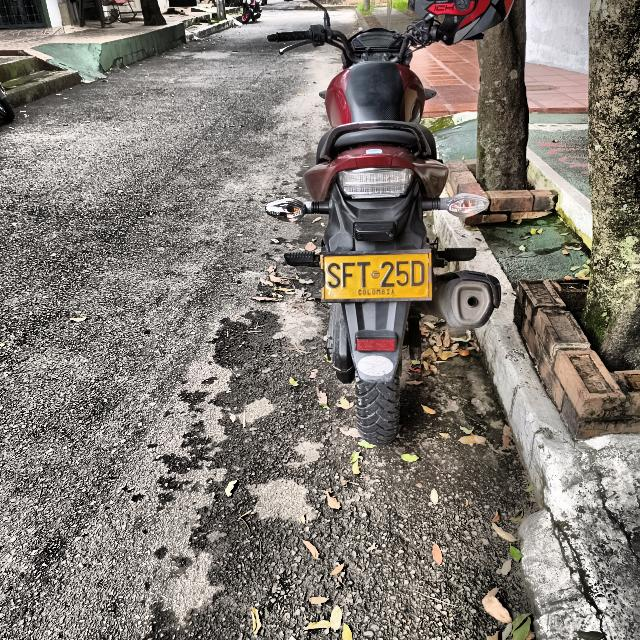plate: (320, 253, 432, 299)
